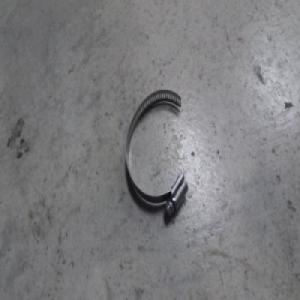AdjustableClamp: (125, 89, 190, 216)
